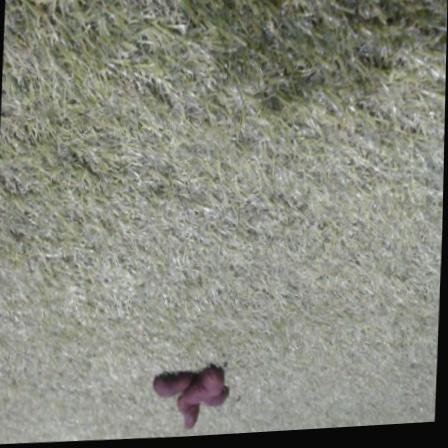dog-poop: (146, 360, 233, 440)
